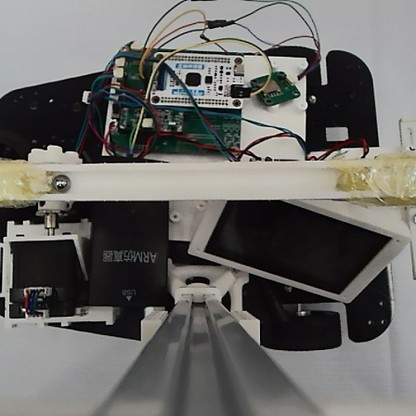ironball: (50, 171, 72, 194)
